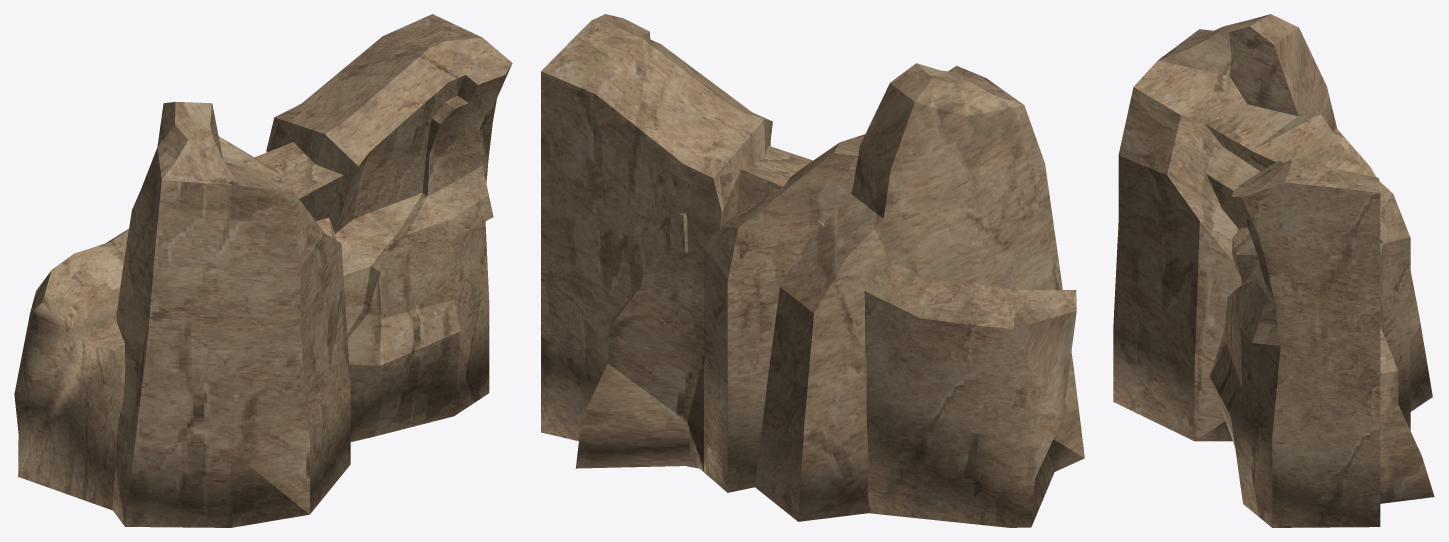
The model's file is Cliffs_1.fbx.
3 views of the same model, side by side, from view 1: azimuth 30°, elevation 25°; view 2: azimuth 150°, elevation 25°; view 3: azimuth 270°, elevation 25° (orthographic). The views are drawn at different scales.
Visible parts, largest first — view 1: SwampRockFlanking1, SwampRockFlanking2; view 2: SwampRockFlanking2, SwampRockFlanking1; view 3: SwampRockFlanking2, SwampRockFlanking1.
Boxes of the visible parts, <box> form: SwampRockFlanking1: <box>14,14,512,510</box>; SwampRockFlanking2: <box>112,101,350,527</box>; SwampRockFlanking2: <box>575,63,1084,521</box>; SwampRockFlanking1: <box>541,14,1076,527</box>; SwampRockFlanking2: <box>1113,14,1434,503</box>; SwampRockFlanking1: <box>1209,159,1380,527</box>.
Size of the model in its own units: 43.27 by 26.37 by 32.86.
